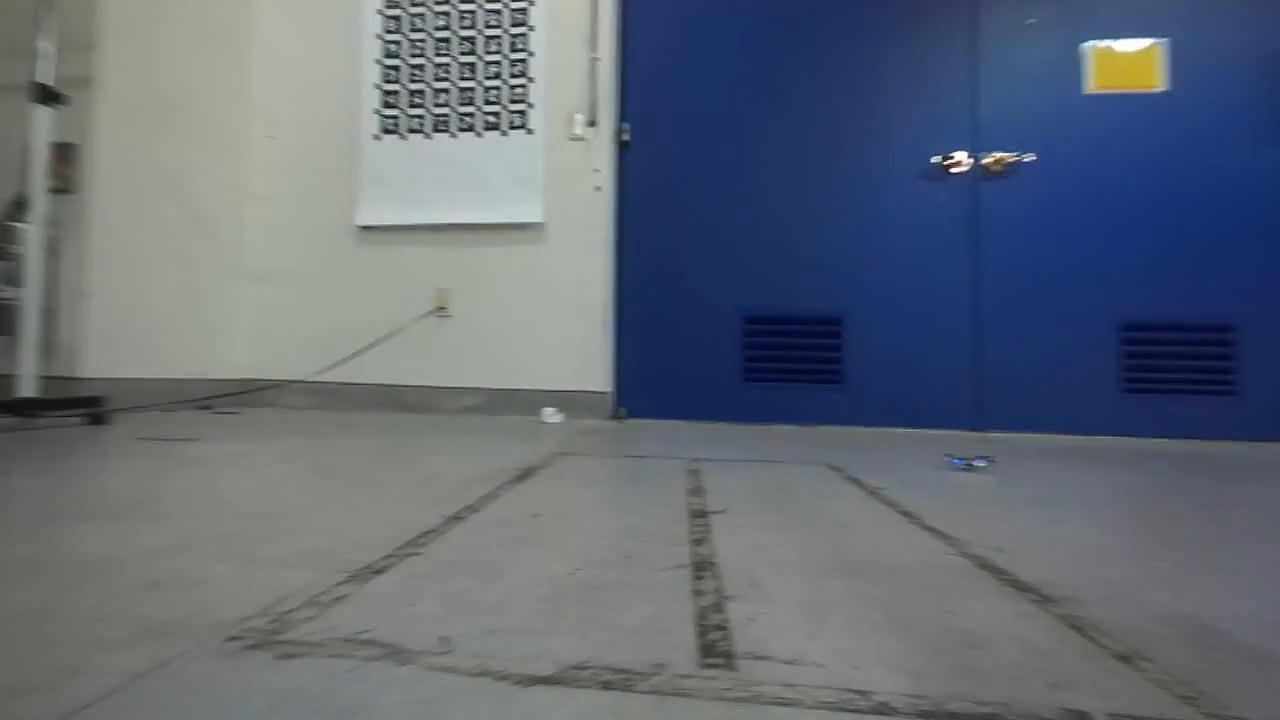crazyflie: (941, 449, 995, 475)
